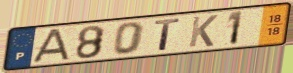0: (111, 20, 145, 56)
1: (226, 9, 244, 48)
8: (75, 25, 107, 60)
A: (28, 27, 72, 65)
K: (187, 14, 220, 49)
T: (152, 17, 182, 53)
